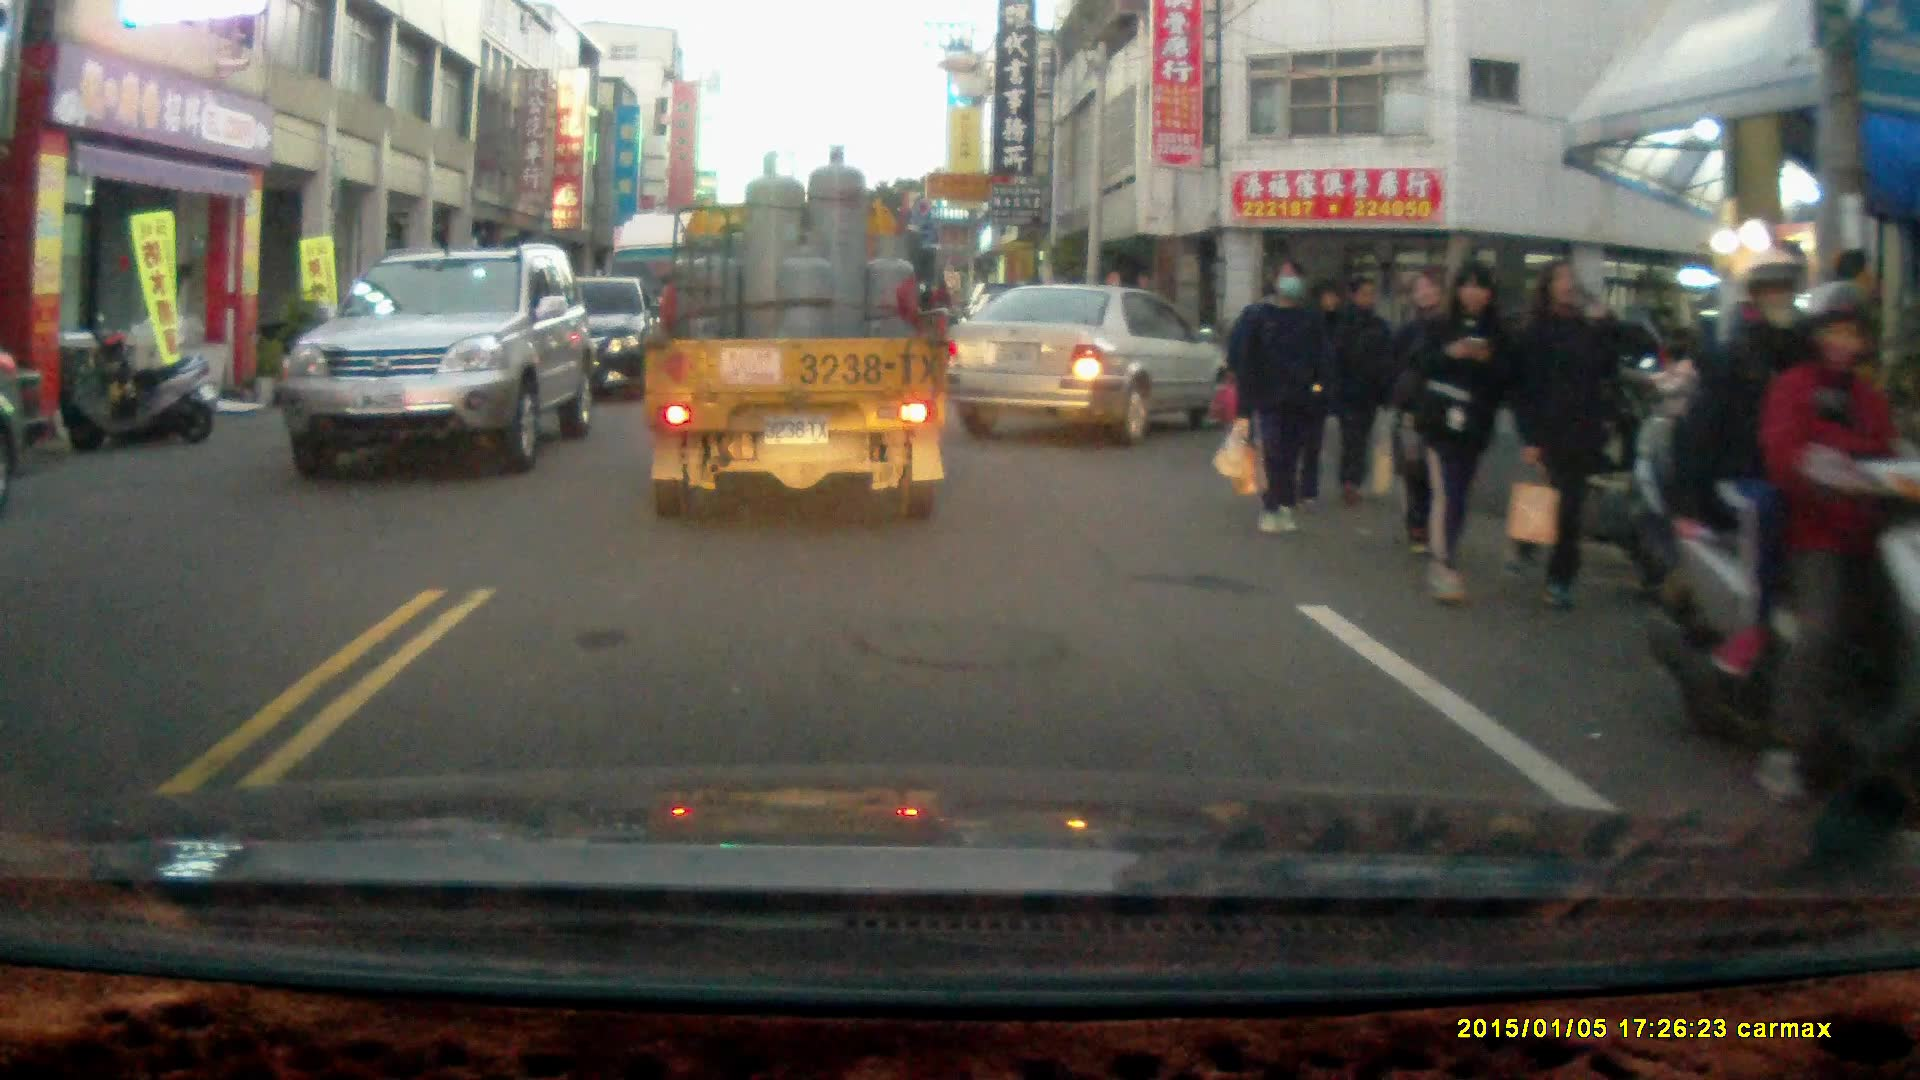pedestrian: (1411, 262, 1514, 614), (1511, 257, 1611, 611), (1234, 263, 1318, 543), (1322, 272, 1398, 509)
rider: (1643, 241, 1920, 830), (1551, 303, 1666, 495)
vehicle: (641, 144, 959, 525), (282, 245, 596, 484), (943, 284, 1245, 443), (487, 271, 667, 406)
